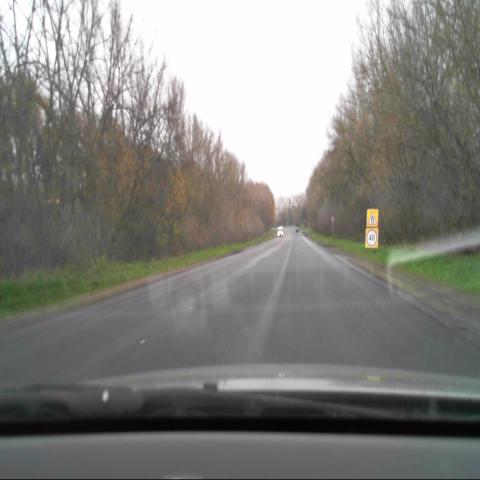1_20_2: (367, 210, 379, 229)
3_24: (366, 229, 378, 248)
